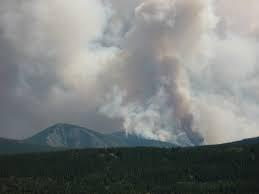yanwu: (1, 1, 259, 145)
